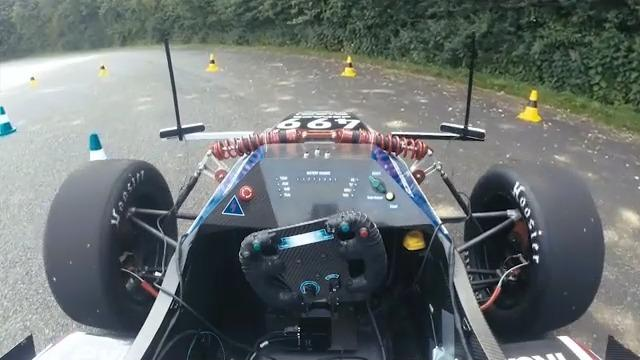blue_cone: (75, 133, 124, 206), (0, 100, 15, 138)
yellow_cone: (517, 88, 541, 122), (339, 55, 357, 78), (204, 52, 220, 72), (29, 74, 40, 92), (96, 63, 108, 78)
